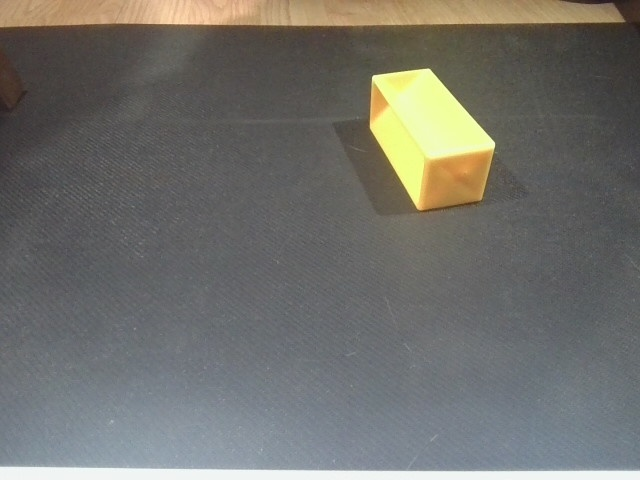YellowSample: (364, 63, 498, 215)
